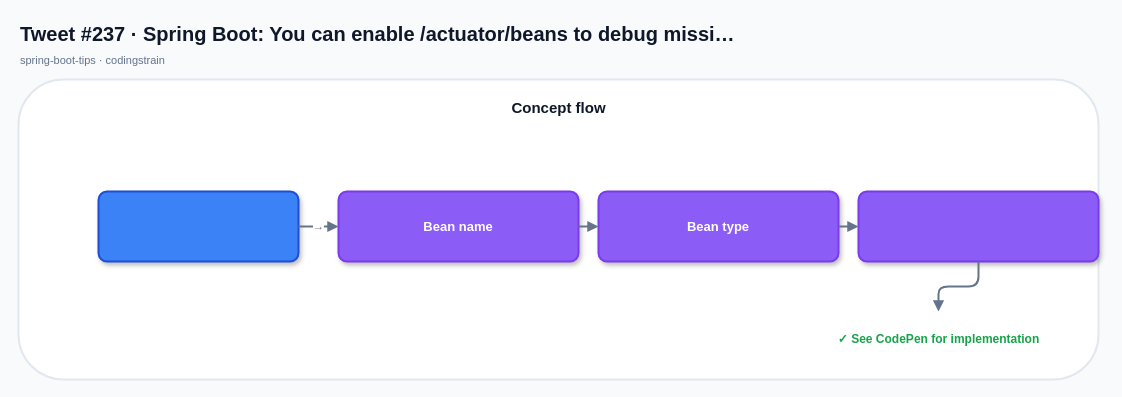
The diagram is 1122 pixels wide and 397 high, and some of its shapes have lost their labels. Each missing label, with the centre of its shape:
Bean scope: (979,227)
Problem / context: (199,227)
